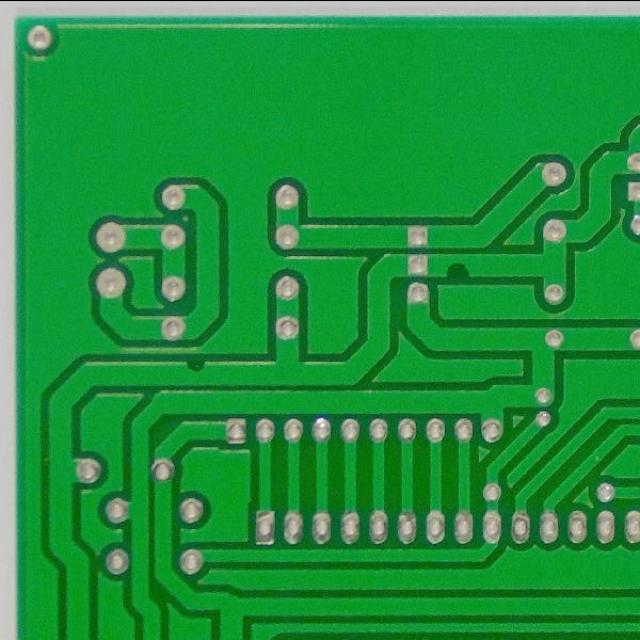mouse_bite: (177, 353, 214, 380), (437, 257, 477, 281)
